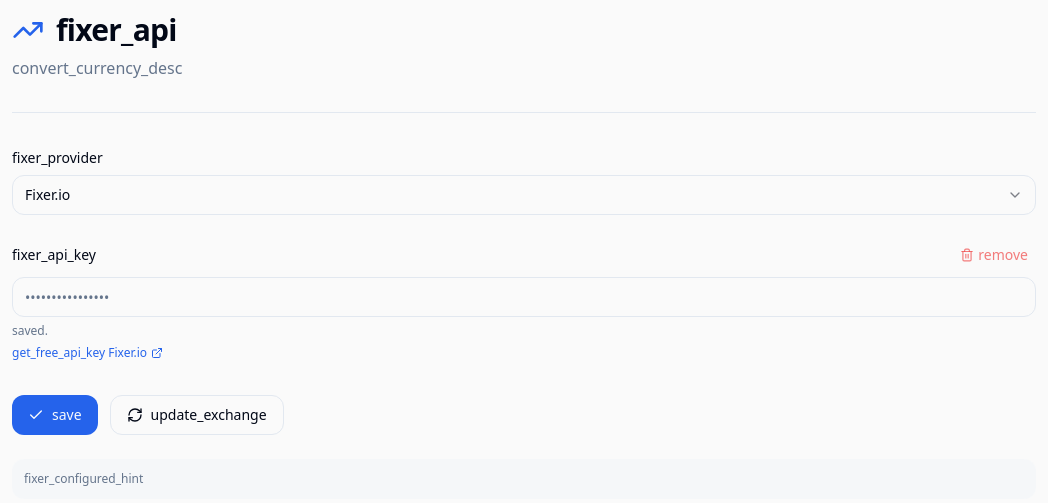
Scenario: FixerTab › clicking remove api key button sets removeStoredApiKey
Click the button "remove". click: (994, 255)
box: left=952, top=239, right=1036, bottom=271
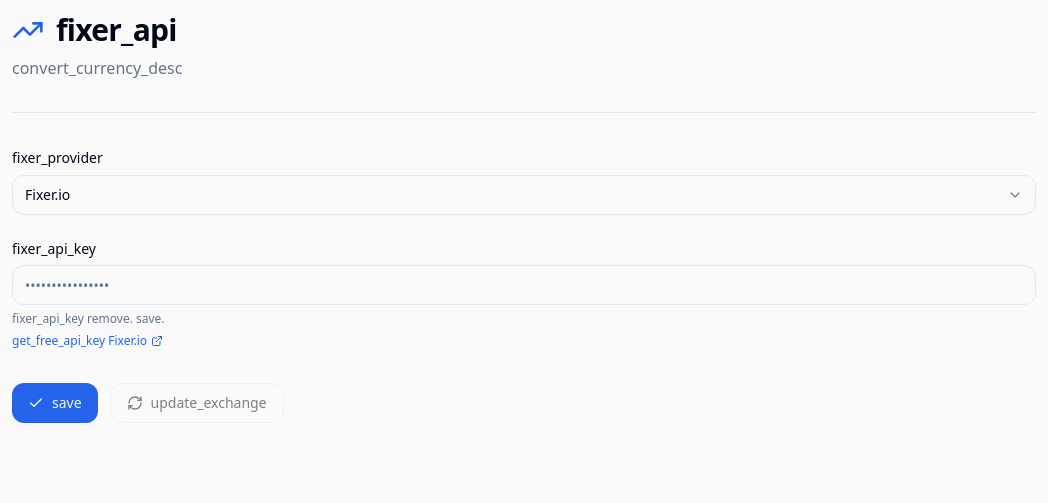
Expected: the text "fixer_configured_hint" is gone
